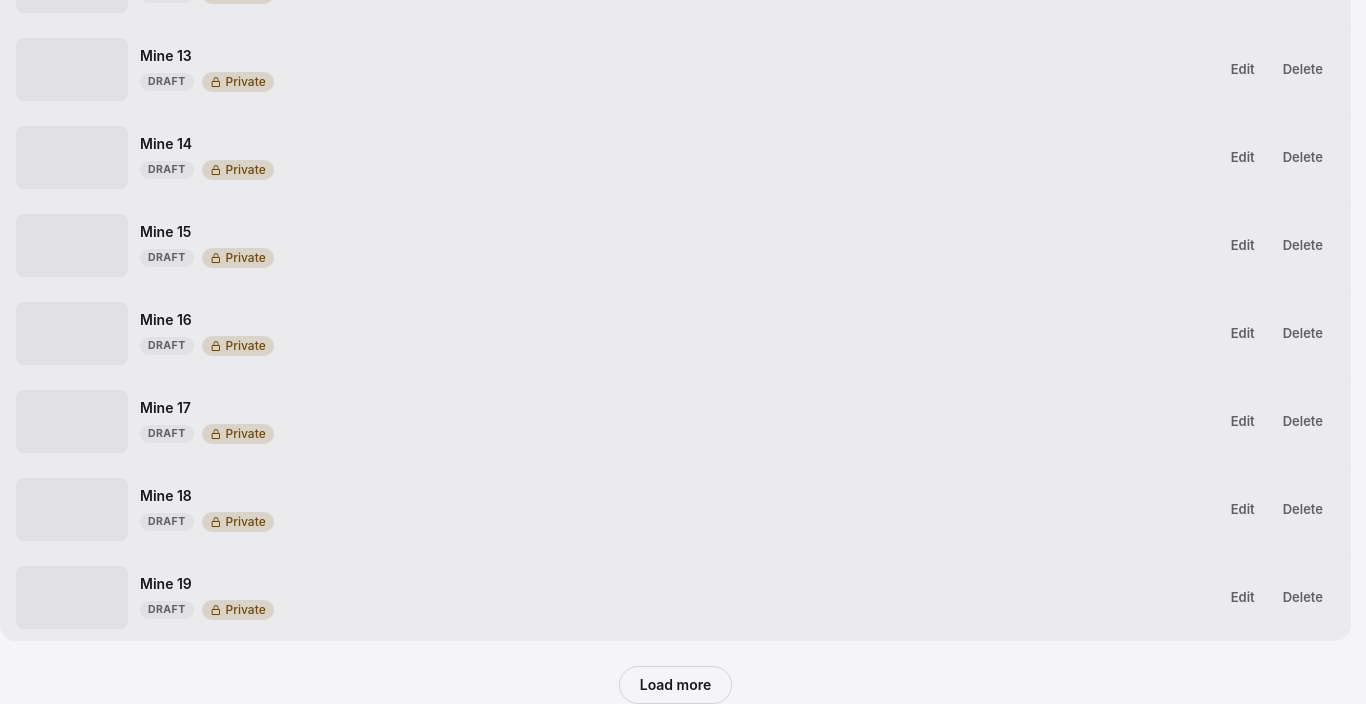
MyVideosSection paging › lets a creator reach videos beyond the newest 20
This screenshot has width=1366, height=704.
(page scrolled)
Expected: the text "Mine 24" is not shown
Click the button "Load more" at point(675, 684), box 619,666 -> 732,703
(page scrolled)
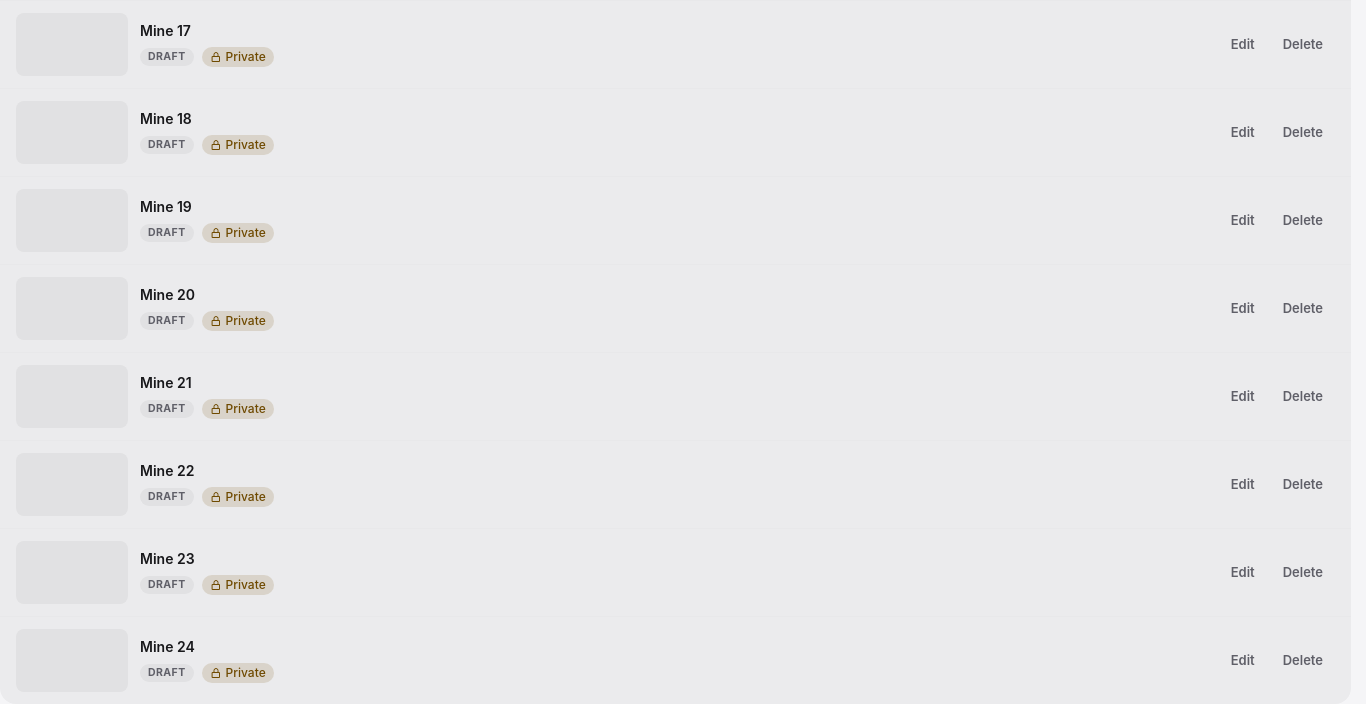
Now the link "Mine 24" is shown, box 140,638 -> 195,655
Now the button "Load more" is gone
